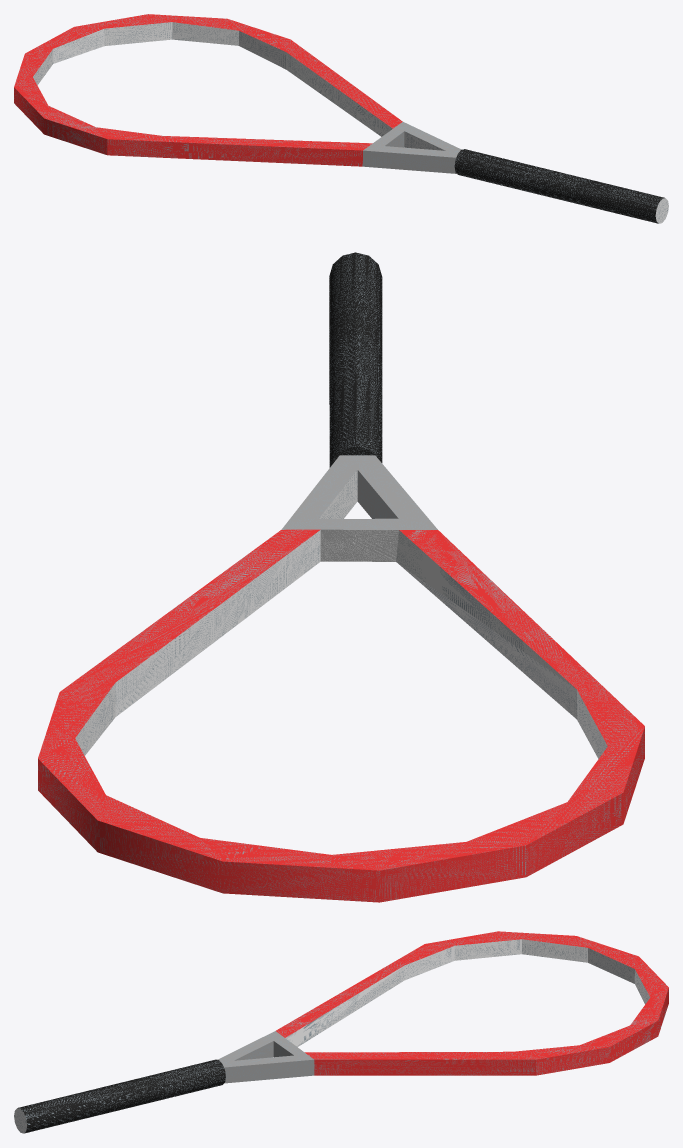
3 views of the same model, one above another, from view 1: azimuth 30°, elevation 25°; view 2: azimuth 150°, elevation 25°; view 3: azimuth 270°, elevation 25° (orthographic). The views are drawn at different scales.
Parts seen in each view (by area): view 1: SketchUp (×5); view 2: SketchUp (×5); view 3: SketchUp (×5).
Boxes of the visible parts, x1,y1,x2,y2 form: SketchUp (×5): (14,14,664,223); SketchUp (×5): (38,252,644,902); SketchUp (×5): (18,931,668,1133).
Size of the model in its own units: 179 by 265 by 10.71.
